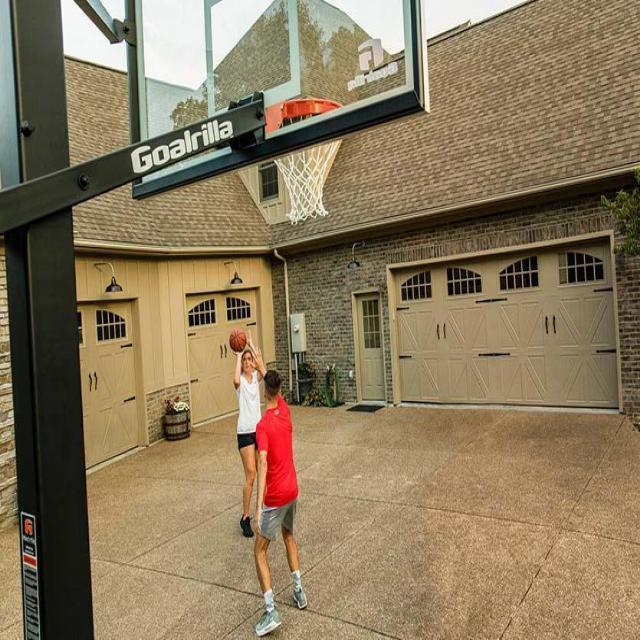Basketball: (229, 328, 247, 352)
hoop: (272, 98, 345, 226)
